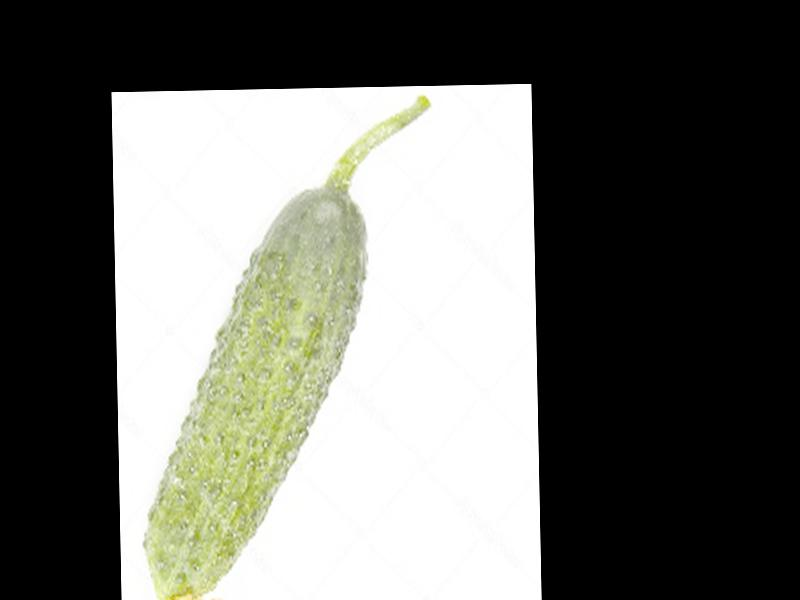Cucumber: (133, 96, 440, 600)
